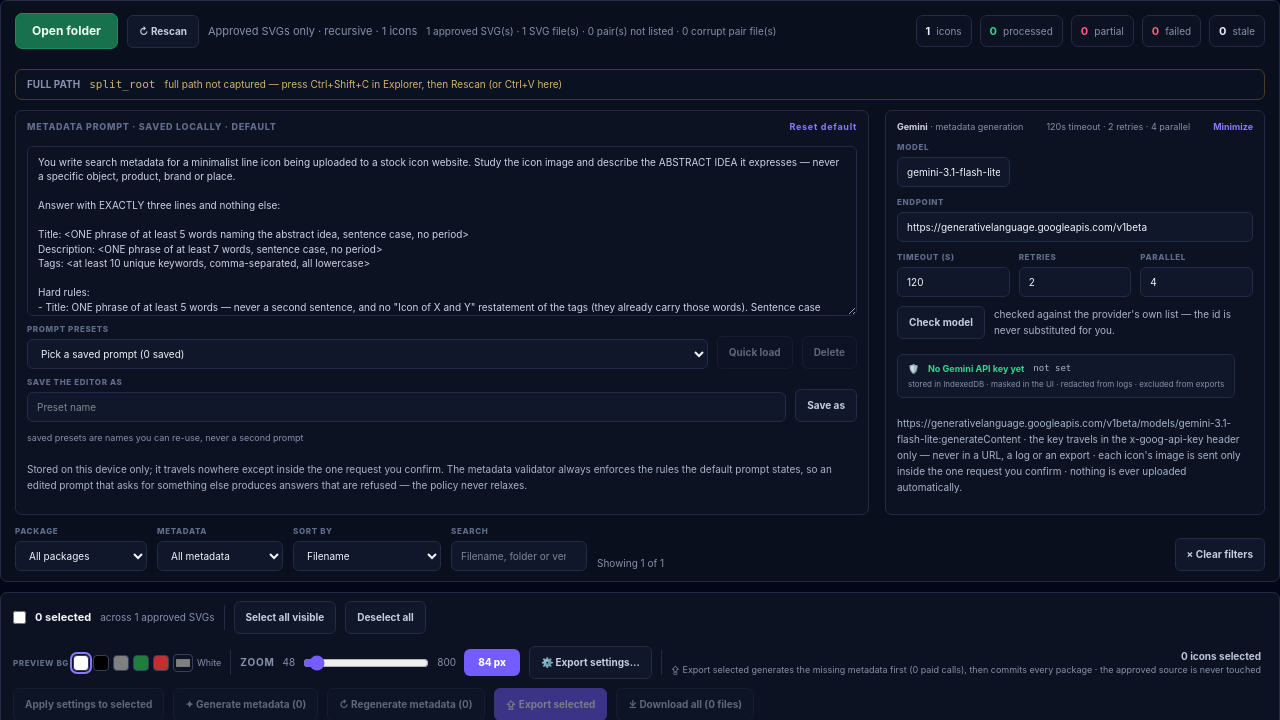
Test: the EPS converter drop list › the helper row: not reachable, then Inkscape not installed, then Check re-probes live (RULE 4/24)
Click the button with test id "upload-settings-open". click: (590,662)
box: [529,646,652,679]
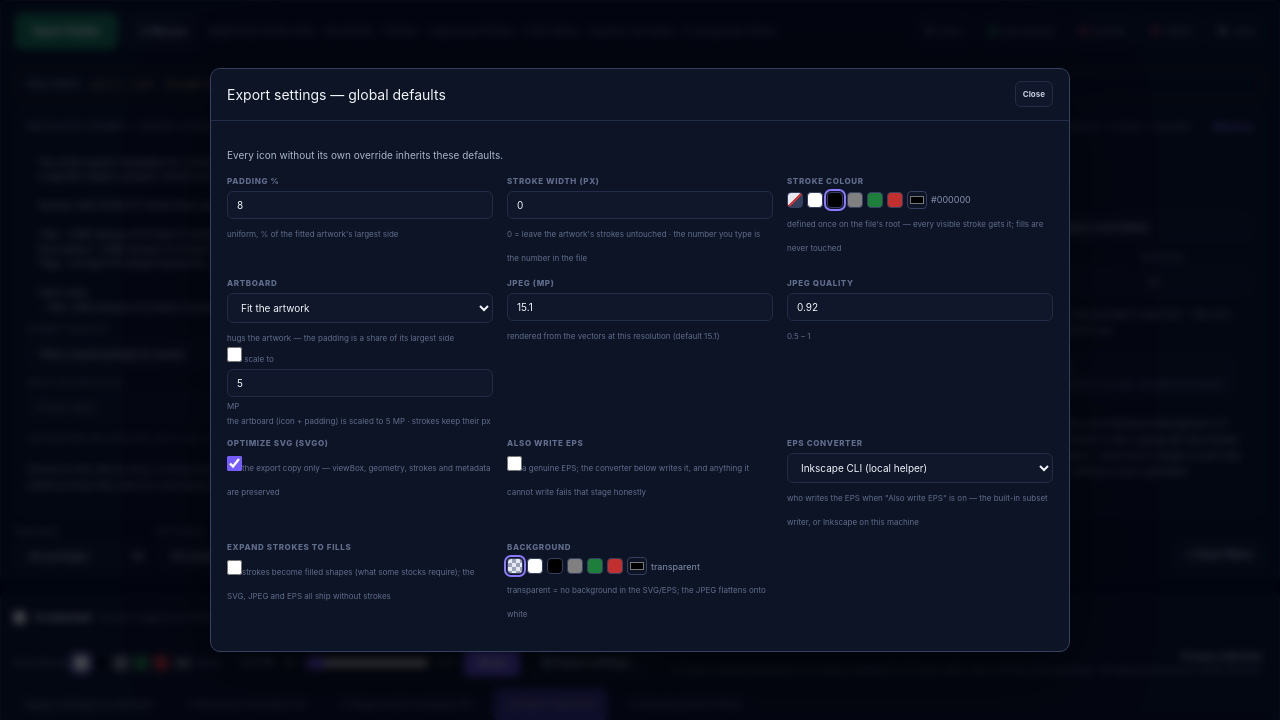
Select "Inkscape CLI (local helper)" in the dropdown with test id "upload-set-eps-converter". click: (920,468)
box: [787,453,1053,483]
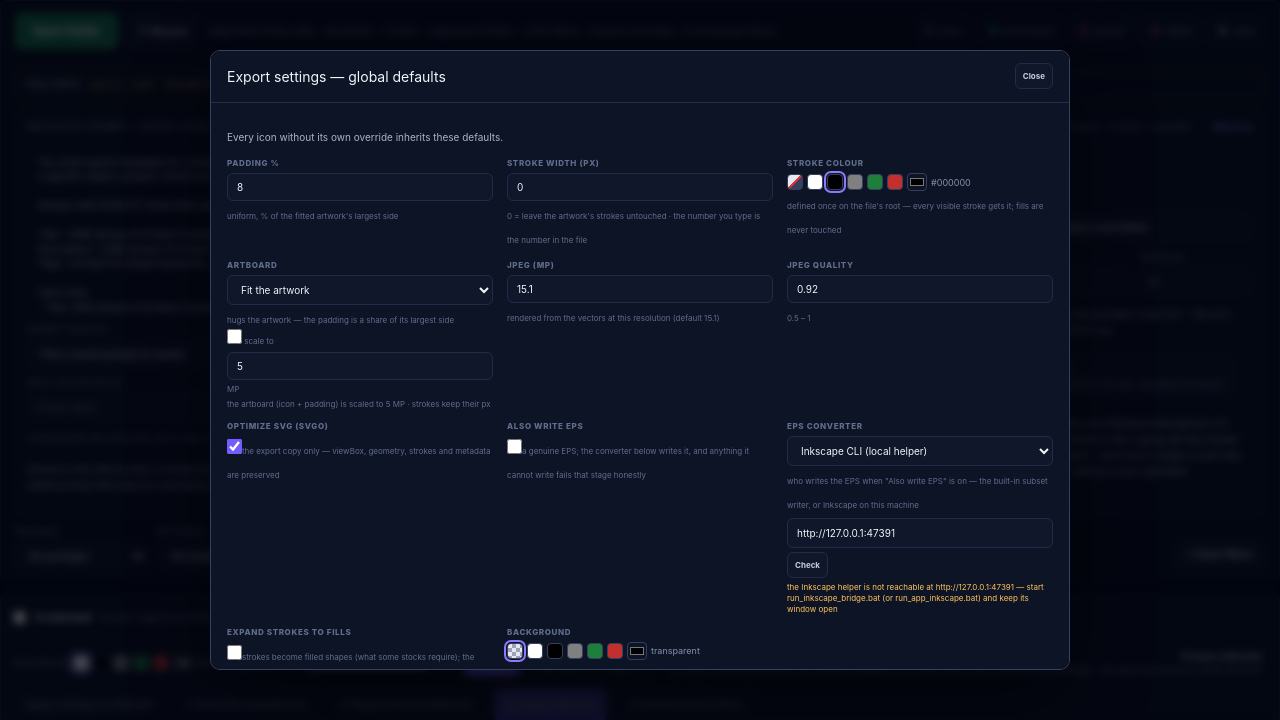
expect the text with test id "upload-eps-helper-state" shows "run_inkscape_bridge.bat": met, box [787,582,1044,614]
expect the field with test id "upload-eps-helper-url" holds "http://127.0.0.1:47391": met, box [787,518,1053,548]
Click the button with test id "upload-eps-helper-check". click: (808,565)
box: [787,552,828,578]
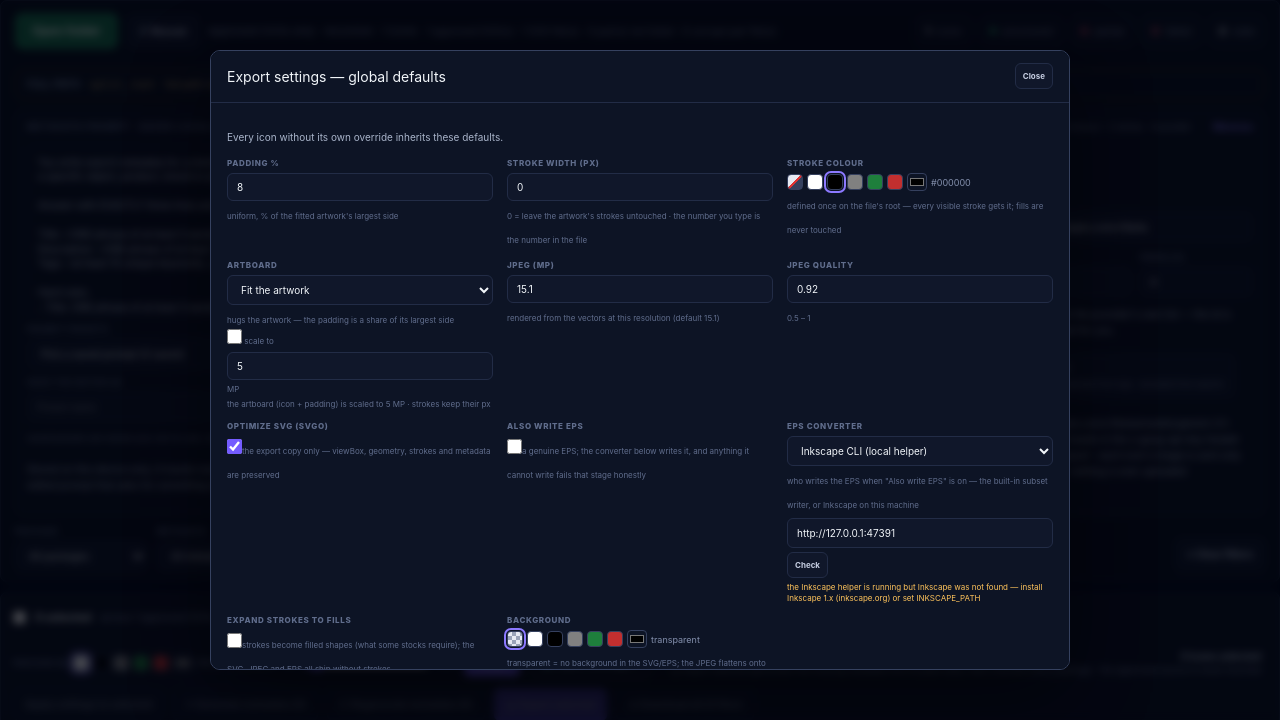
expect the text with test id "upload-eps-helper-state" shows "the Inkscape helper is running but Inkscape was not found — install Inkscape 1.x (inkscape.org) or set INKSCAPE_PATH": met, box [787,582,1042,603]
